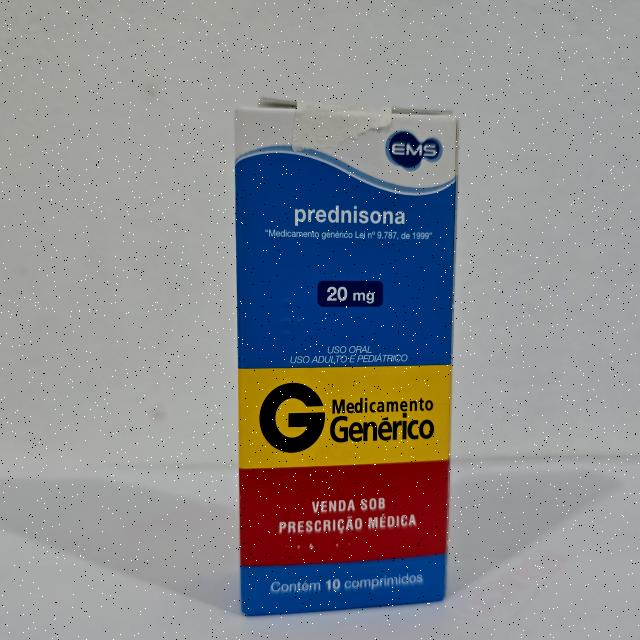prednisona: (230, 92, 462, 625)
